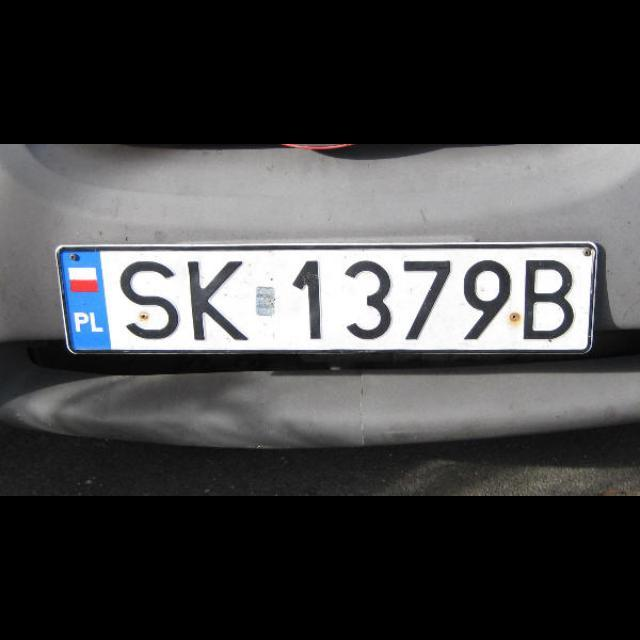license-plates: (56, 242, 601, 355)
